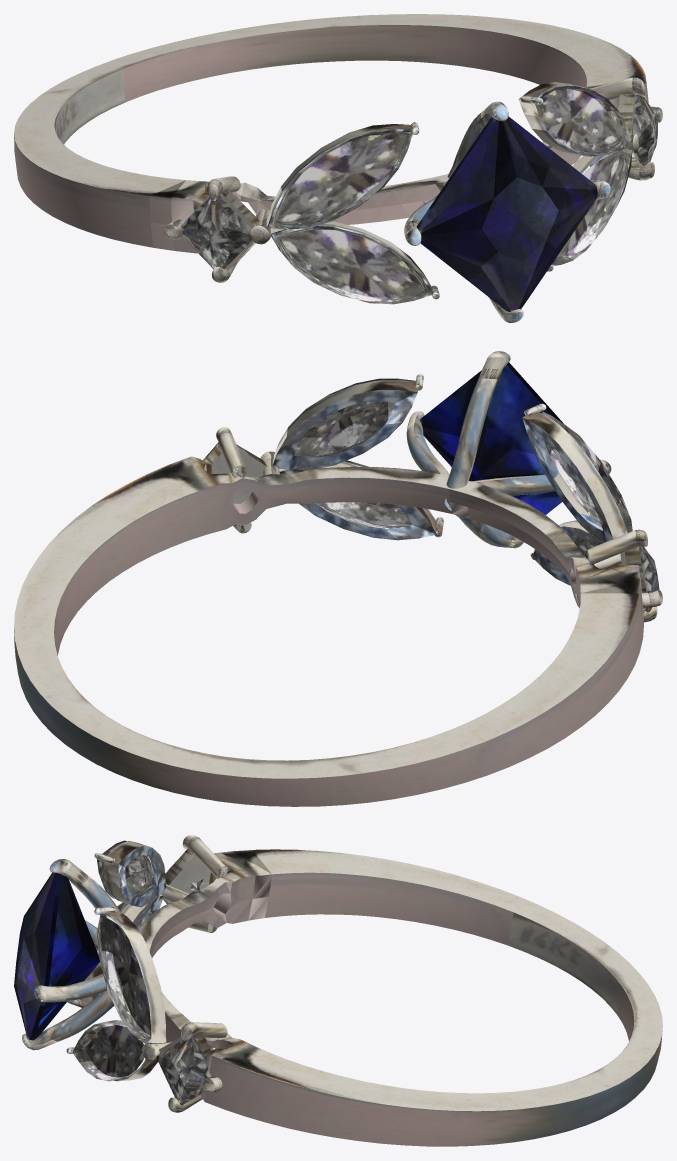
The model's file is Ring-Smaple-jewelry.glb.
The picture shows the model from 3 angles, top to bottom: view 1: azimuth 30°, elevation 25°; view 2: azimuth 150°, elevation 25°; view 3: azimuth 270°, elevation 25°; orthographic projection. The views are drawn at different scales.
Parts seen in each view (by area): view 1: ringpart_2; view 2: ringpart_2; view 3: ringpart_2.
Part boxes in pixels (x1=…): ringpart_2: x1=14, y1=14, x2=662, y2=322; ringpart_2: x1=14, y1=351, x2=662, y2=806; ringpart_2: x1=14, y1=835, x2=662, y2=1146.
Size of the model in its own units: 0.0254 by 0.00918 by 0.0283.
Materials: 1 (1 with a texture image).
